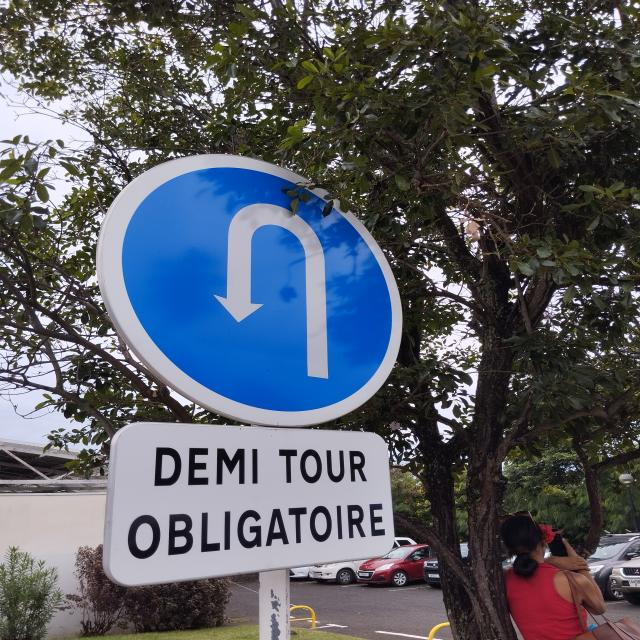Demi-Tour-Obligatoire: (94, 148, 406, 427)
